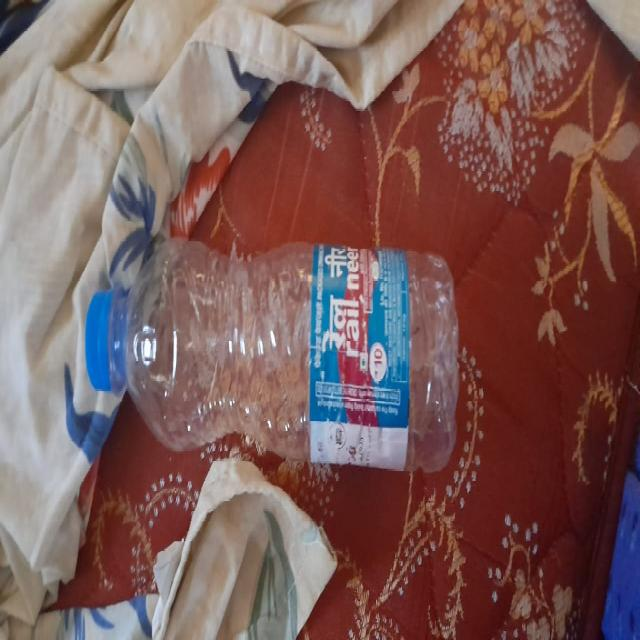Plastic - Recyclable: (84, 234, 460, 476)
